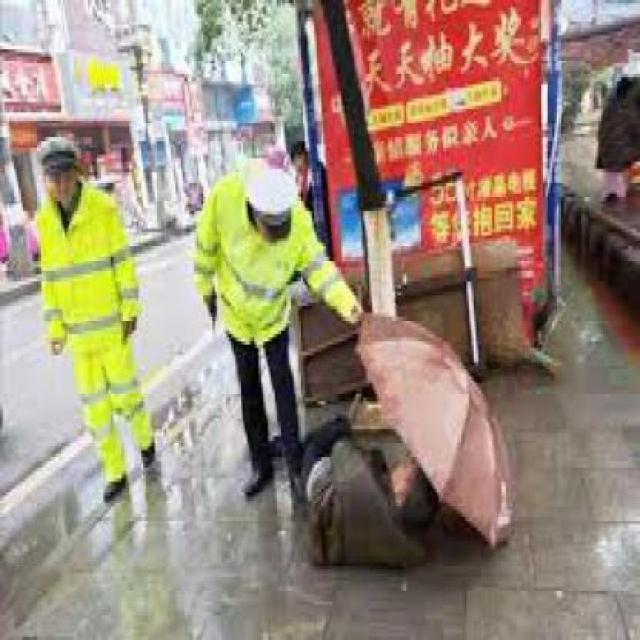fall: (284, 387, 439, 584)
